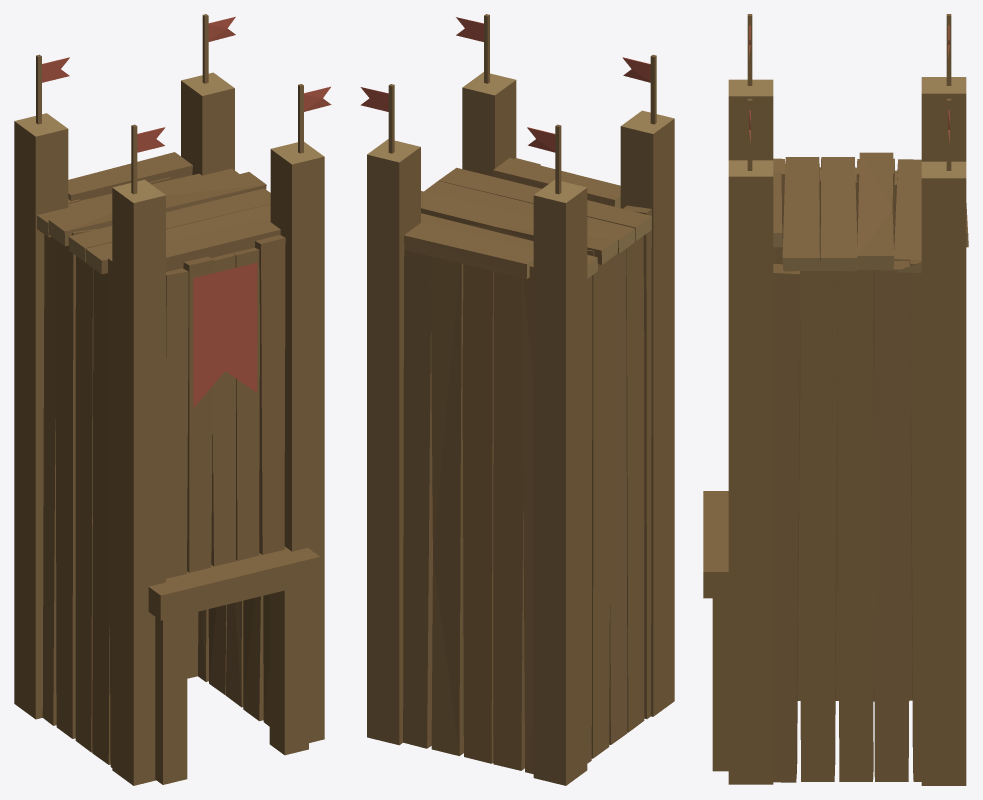
Rendered from watchtower_small_lod.glb.
3 views of the same model, side by side, from view 1: azimuth 30°, elevation 25°; view 2: azimuth 150°, elevation 25°; view 3: azimuth 270°, elevation 25° (orthographic). The views are drawn at different scales.
Visible parts, largest first — view 1: WatchTower_FirstAge_Level2; view 2: WatchTower_FirstAge_Level2; view 3: WatchTower_FirstAge_Level2.
Boxes of the visible parts, x1=… form: WatchTower_FirstAge_Level2: x1=14, y1=14, x2=331, y2=785; WatchTower_FirstAge_Level2: x1=360, y1=14, x2=674, y2=785; WatchTower_FirstAge_Level2: x1=703, y1=14, x2=968, y2=785.
Bounding box in the file's own units: 0.505 × 1.46 × 0.5193.
